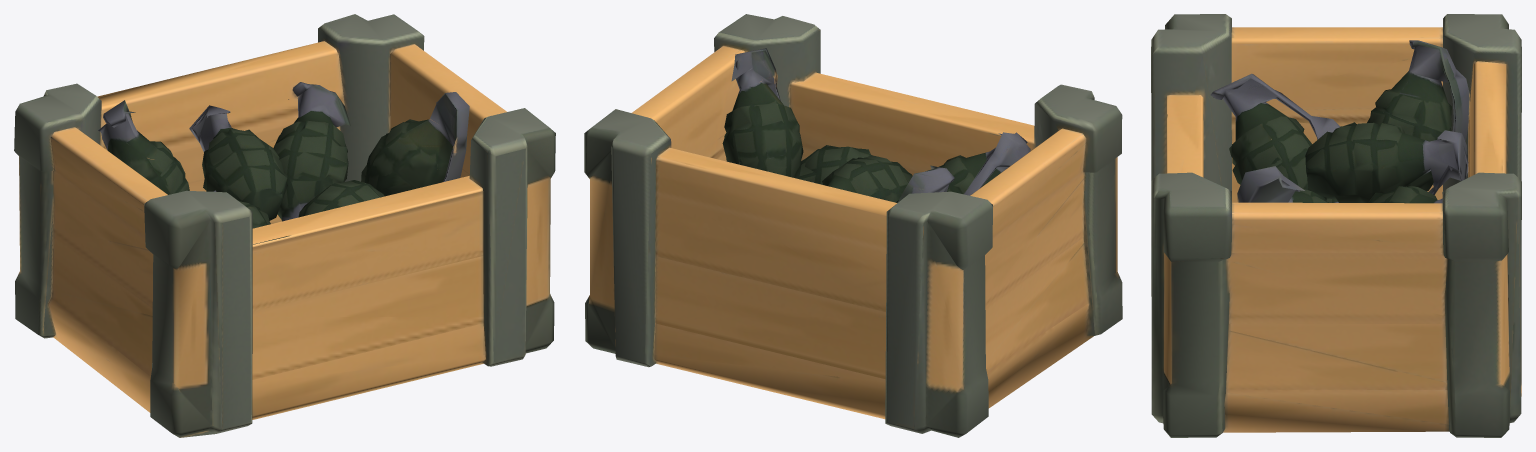
Rendered from grenade-crate.glb.
The picture shows the model from 3 angles, left to right: view 1: azimuth 30°, elevation 25°; view 2: azimuth 150°, elevation 25°; view 3: azimuth 270°, elevation 25°; orthographic projection. The views are drawn at different scales.
Size of the model in its own units: 0.9565 by 0.5503 by 0.7544.
Materials: 1 (1 with a texture image).
